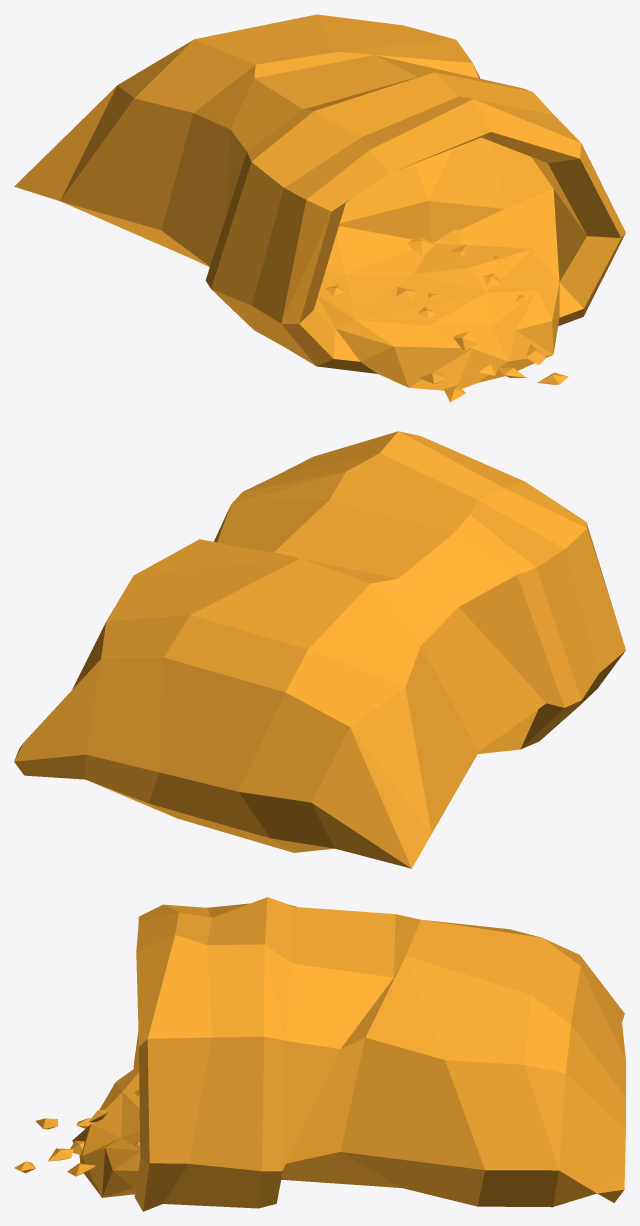
Rendered from SM_Bag_Lying_Open_Sunflower_Farm.fbx.
The picture shows the model from 3 angles, top to bottom: view 1: azimuth 30°, elevation 25°; view 2: azimuth 150°, elevation 25°; view 3: azimuth 270°, elevation 25°; orthographic projection. The views are drawn at different scales.
Parts seen in each view (by area): view 1: bag-lying-open-sunflower-farm; view 2: bag-lying-open-sunflower-farm; view 3: bag-lying-open-sunflower-farm.
Part boxes in pixels (left/top/right/bottom): bag-lying-open-sunflower-farm: left=14, top=14, right=625, bottom=402; bag-lying-open-sunflower-farm: left=14, top=431, right=625, bottom=868; bag-lying-open-sunflower-farm: left=14, top=897, right=625, bottom=1211.
Size of the model in its own units: 0.5745 by 0.3432 by 0.7829.
